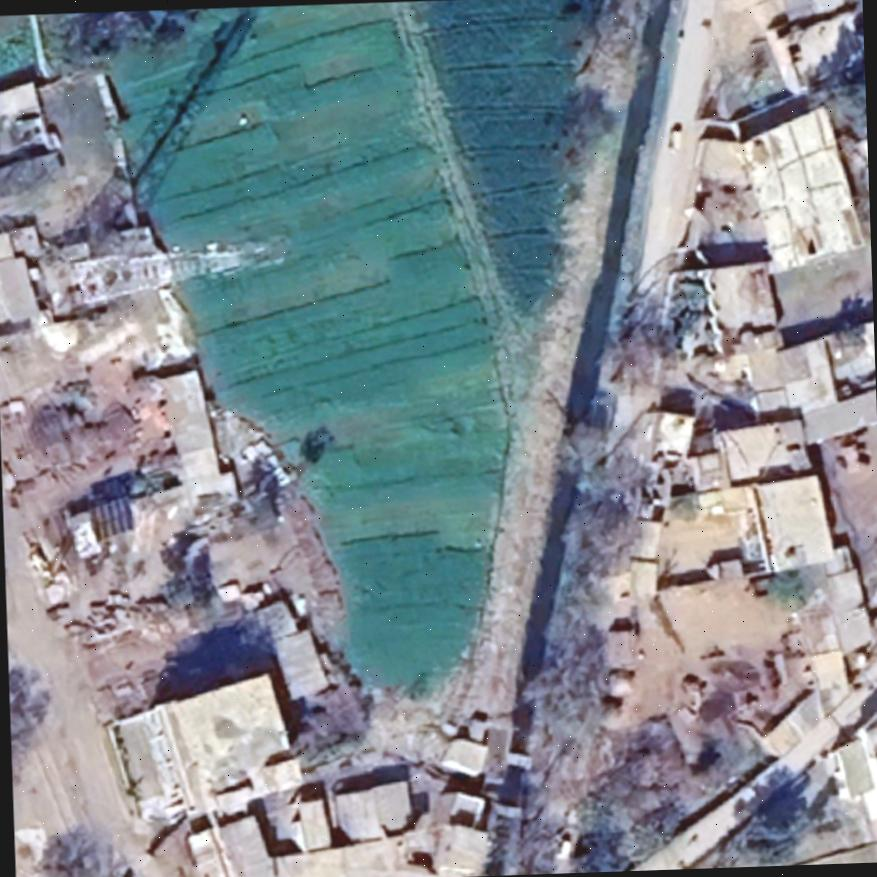Solarpanel: (82, 488, 139, 546)
